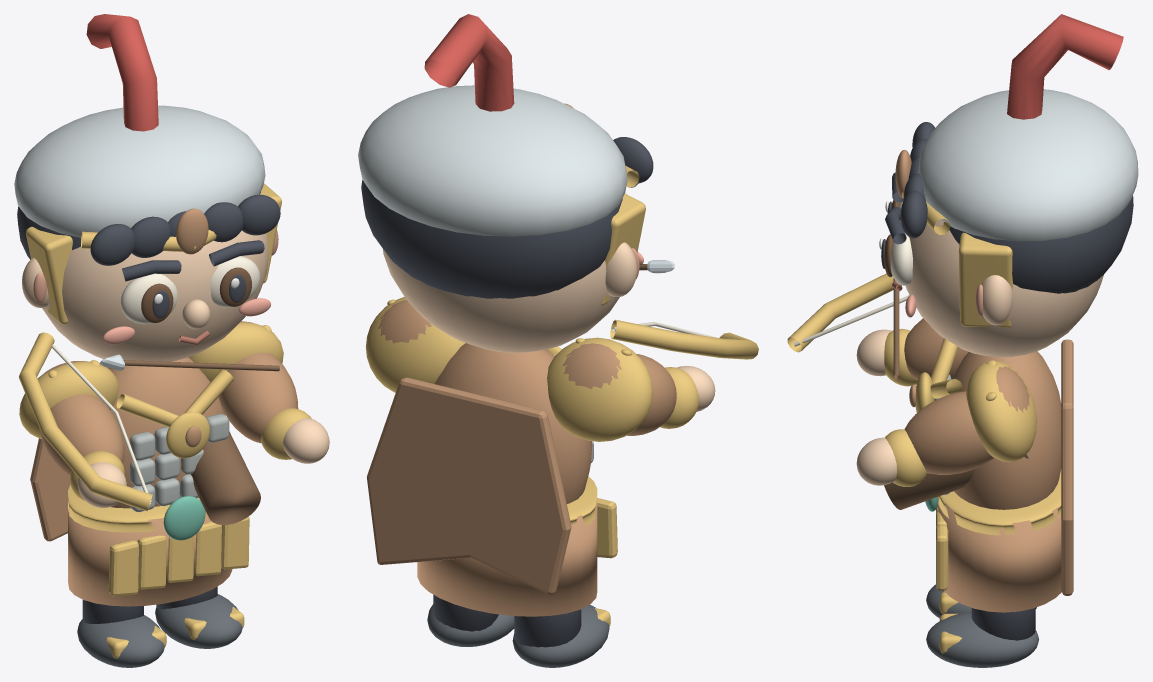
File: handang.fbx
3 renders of one model, left to right at view 1: azimuth 30°, elevation 25°; view 2: azimuth 150°, elevation 25°; view 3: azimuth 270°, elevation 25°, orthographic. The views are drawn at different scales.
Parts seen in each view (by area): view 1: helmet, face, robe_skirt, body, plume, sleeve, quiver, recurve_bow, sleeve.001, boot, boot.001, shoulder_gold.001 (+43 smaller); view 2: cape, helmet, hair_mass, face, robe_skirt, body, shoulder_gold.001, plume, shoulder_gold, recurve_bow, boot, leg (+12 smaller); view 3: helmet, face, robe_skirt, body, hair_mass, plume, sleeve, shoulder_gold, boot.001, cape, cheek_guard.001, belt (+20 smaller).
Part boxes in pixels (x1,y1,x2,y2): helmet: (14, 105, 265, 237); face: (42, 230, 269, 361); robe_skirt: (68, 505, 232, 606); body: (108, 357, 225, 508); plume: (86, 14, 158, 131); sleeve: (218, 352, 298, 443); quiver: (190, 431, 260, 524); recurve_bow: (19, 332, 152, 511); sleeve.001: (39, 394, 124, 476); boot: (77, 615, 164, 667); boot.001: (155, 594, 242, 648); shoulder_gold.001: (19, 361, 118, 439); cape: (366, 377, 571, 594); helmet: (358, 85, 627, 236); hair_mass: (361, 180, 622, 298); face: (382, 248, 619, 352); robe_skirt: (417, 499, 597, 616); body: (435, 343, 592, 503); shoulder_gold.001: (547, 337, 653, 441); plume: (424, 14, 514, 111); shoulder_gold: (366, 296, 465, 392); recurve_bow: (610, 319, 758, 359); boot: (512, 605, 609, 667); leg: (514, 609, 581, 647); helmet: (918, 89, 1138, 241); face: (900, 219, 1103, 357); robe_skirt: (937, 497, 1061, 612); body: (952, 351, 1061, 509); hair_mass: (949, 196, 1133, 293); plume: (1007, 14, 1123, 119); sleeve: (904, 391, 994, 474); shoulder_gold: (966, 361, 1036, 462); boot.001: (926, 612, 1038, 667); cape: (1061, 339, 1073, 595); cheek_guard.001: (958, 232, 1012, 327); belt: (938, 469, 1061, 535).
Bounding box in the file's own units: 1.38 × 2.81 × 1.43.
